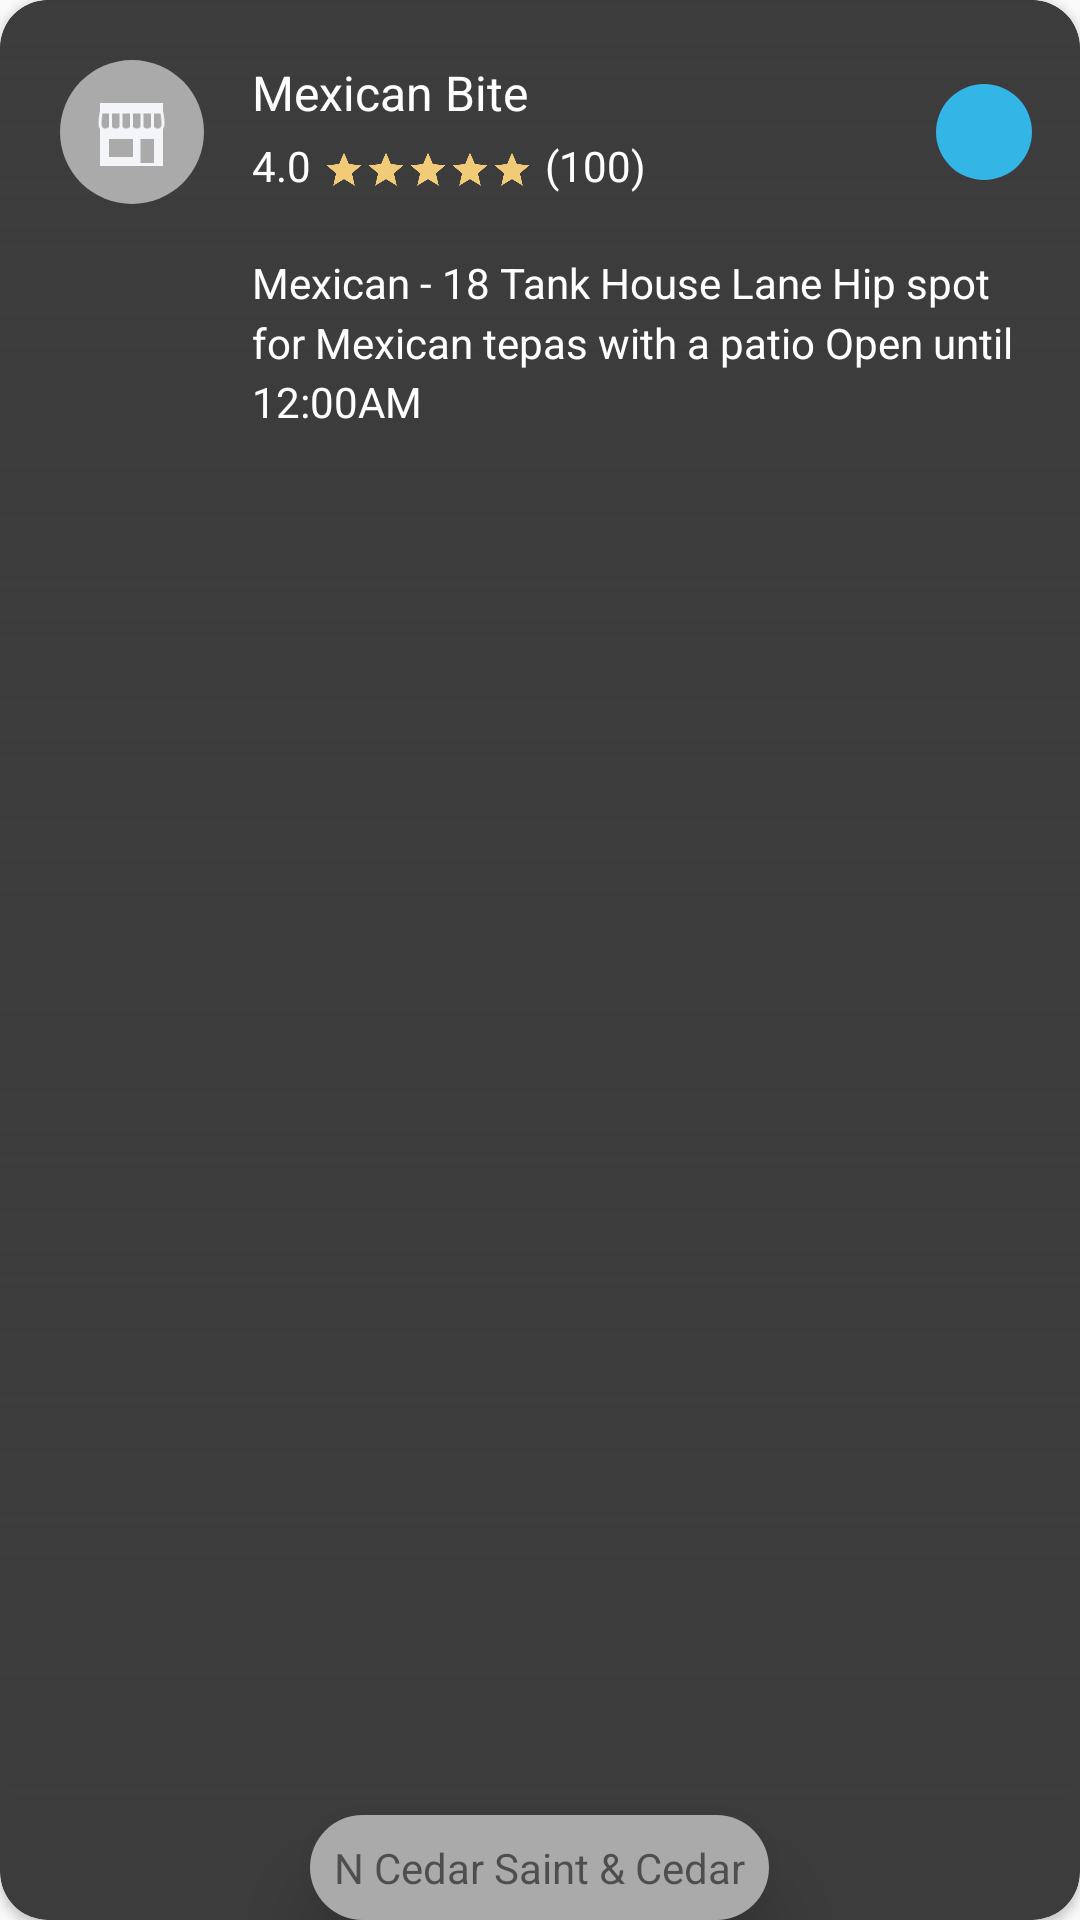

Where to tap for icons on this 1080x1920 app screen, as point (x, y):
shop: point (131, 134)
star gold: point (344, 169), point (386, 169), point (428, 169), point (470, 169), point (512, 169)
